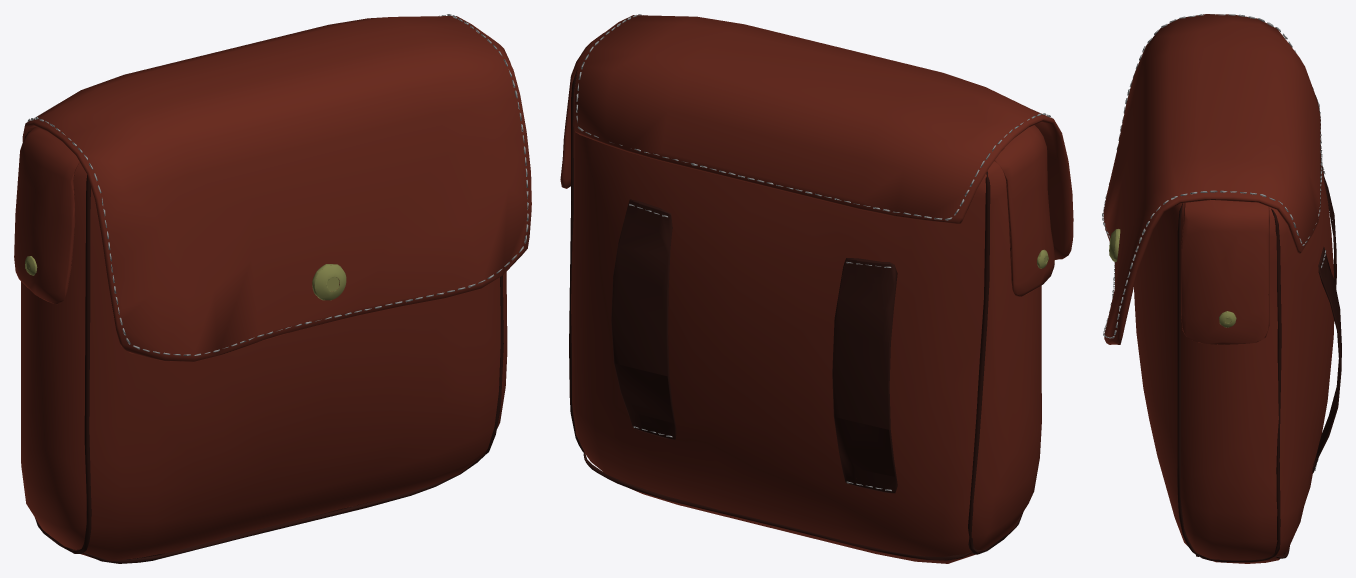
The model's file is ropa_leather_bag.glb.
The picture shows the model from 3 angles, left to right: view 1: azimuth 30°, elevation 25°; view 2: azimuth 150°, elevation 25°; view 3: azimuth 270°, elevation 25°; orthographic projection. The views are drawn at different scales.
Visible parts, largest first — view 1: Object_11; view 2: Object_11; view 3: Object_11.
Boxes of the visible parts, x1=… form: Object_11: x1=14, y1=14, x2=531, y2=563; Object_11: x1=560, y1=14, x2=1073, y2=563; Object_11: x1=1102, y1=14, x2=1341, y2=563.
Size of the model in its own units: 0.272 by 0.2498 by 0.1331.
